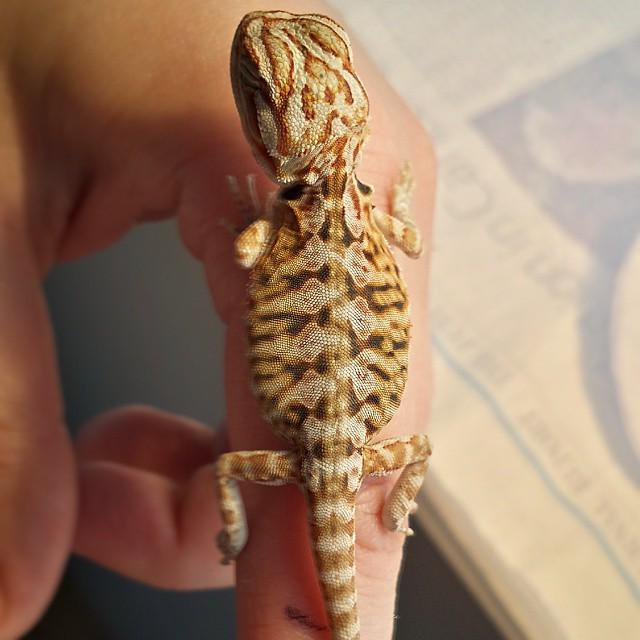bearded: (210, 8, 433, 640)
